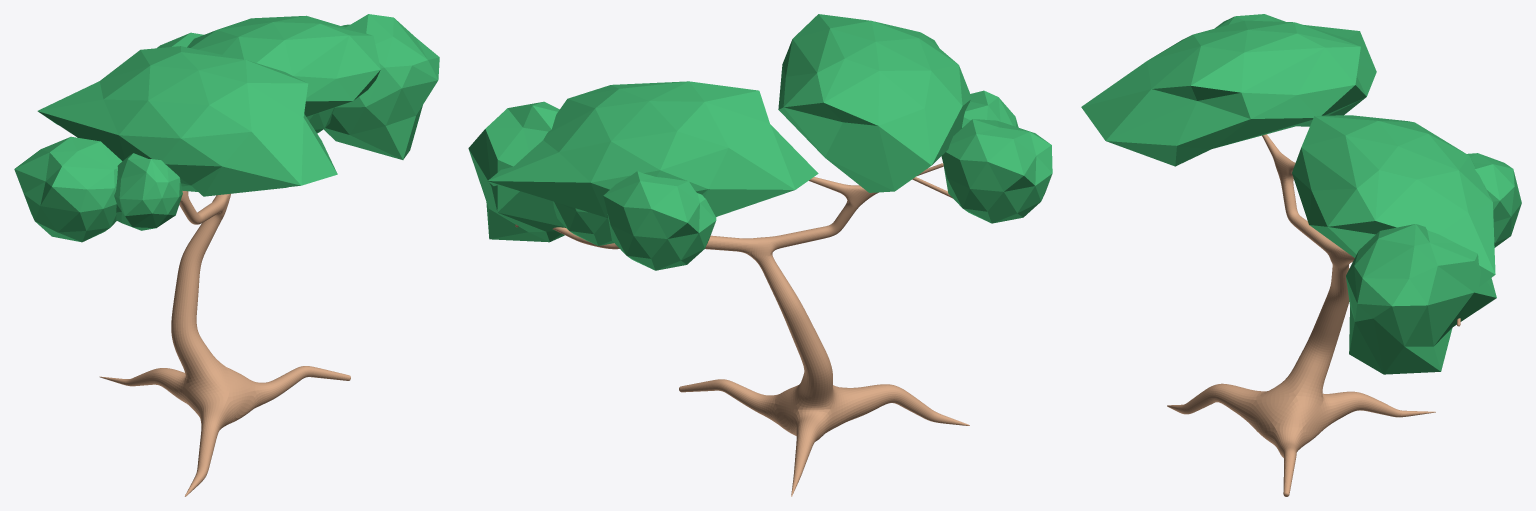
The model's file is tree.fbx.
The picture shows the model from 3 angles, left to right: view 1: azimuth 30°, elevation 25°; view 2: azimuth 150°, elevation 25°; view 3: azimuth 270°, elevation 25°; orthographic projection. The views are drawn at different scales.
Parts seen in each view (by area): view 1: Icosphere.003, Cube, Icosphere.002, Icosphere, Icosphere.005, Icosphere.004; view 2: Icosphere.002, Icosphere.003, Cube, Icosphere.005, Icosphere.001, Icosphere, Icosphere.006, Icosphere.004; view 3: Icosphere.003, Icosphere.002, Icosphere, Cube, Icosphere.001.
Part boxes in pixels (x1,y1,x2,y2): Icosphere.003: (37,46,337,196); Cube: (99,191,350,496); Icosphere.002: (187,15,380,117); Icosphere: (324,14,439,159); Icosphere.005: (14,136,122,242); Icosphere.004: (114,153,182,230); Icosphere.002: (488,81,818,218); Icosphere.003: (778,14,970,192); Cube: (515,163,969,496); Icosphere.005: (941,119,1052,223); Icosphere.001: (603,171,716,270); Icosphere: (468,101,565,242); Icosphere.006: (553,201,613,245); Icosphere.004: (961,90,1018,128); Icosphere.003: (1081,20,1376,166); Icosphere.002: (1292,115,1495,287); Icosphere: (1346,224,1496,374); Cube: (1167,134,1460,496); Icosphere.001: (1467,153,1521,247).
Bounding box in the file's own units: 474 × 369 × 365.
